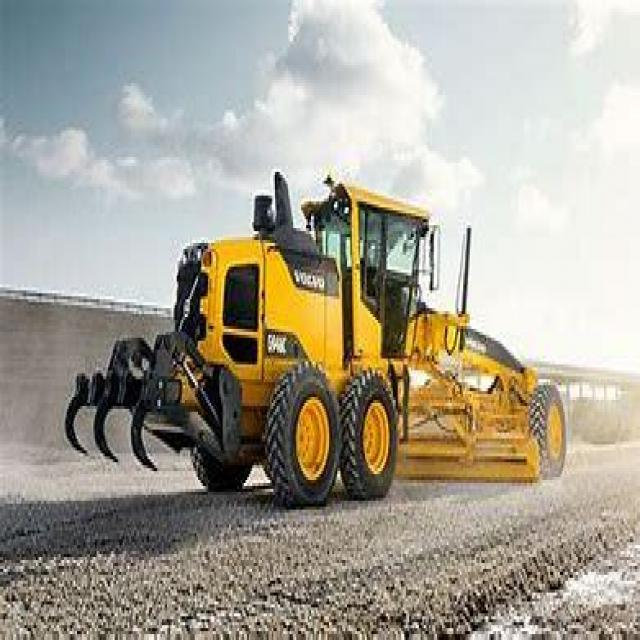Grader: (87, 166, 573, 495)
